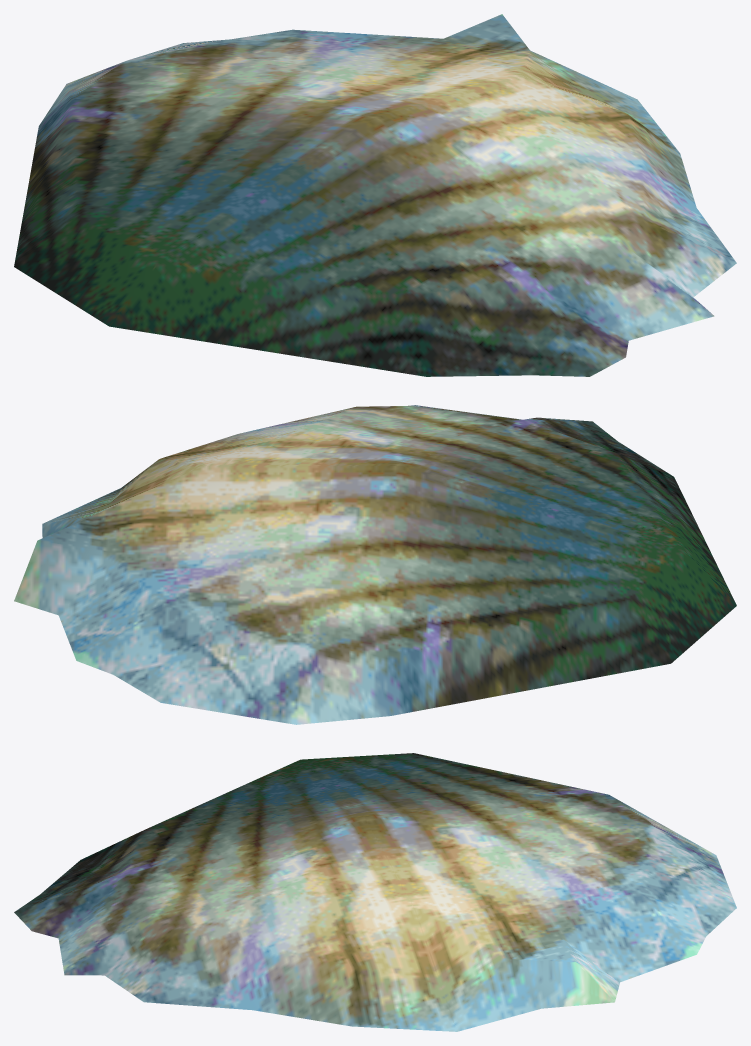
File: 5010_Item_beike_01.FBX
3 views of the same model, one above another, from view 1: azimuth 30°, elevation 25°; view 2: azimuth 150°, elevation 25°; view 3: azimuth 270°, elevation 25° (orthographic). The views are drawn at different scales.
Visible parts, largest first — view 1: 5010_Item_beike_01; view 2: 5010_Item_beike_01; view 3: 5010_Item_beike_01.
Boxes of the visible parts, <box> form: 5010_Item_beike_01: <box>14,14,736,376</box>; 5010_Item_beike_01: <box>14,405,736,724</box>; 5010_Item_beike_01: <box>14,753,736,1031</box>.
Size of the model in its own units: 69.8 by 11.26 by 80.98.
